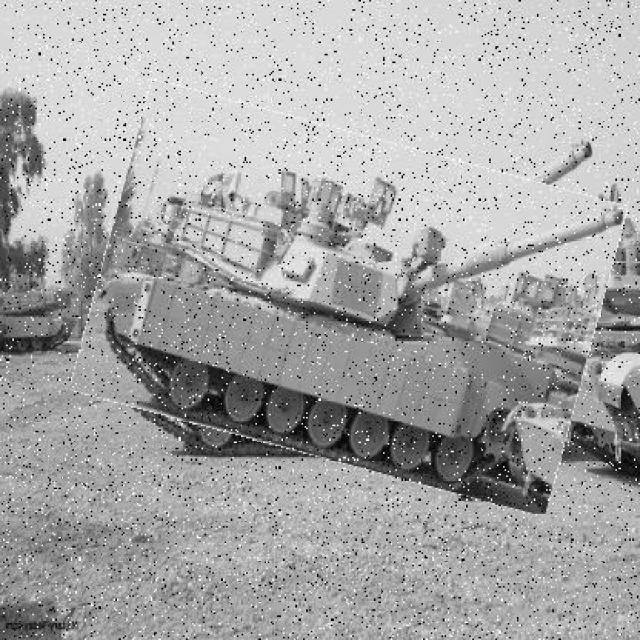Tank: (87, 109, 612, 489)
